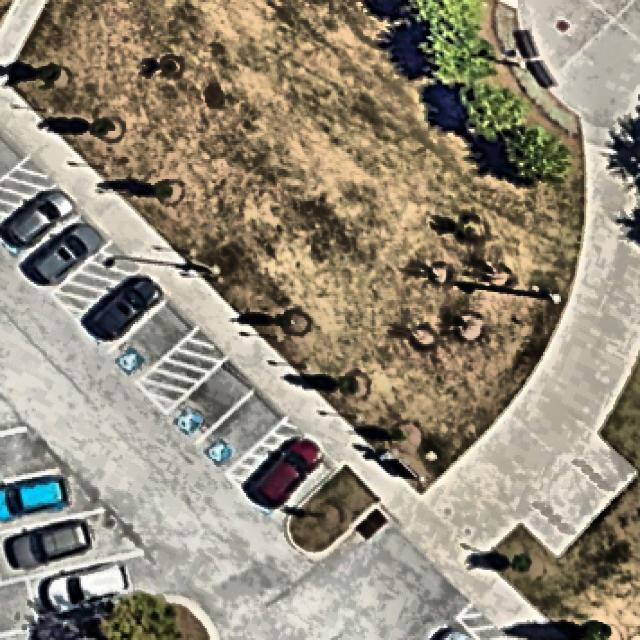Car: (240, 425, 331, 518), (78, 266, 171, 351), (20, 215, 111, 288), (34, 555, 139, 617), (0, 179, 80, 257), (0, 515, 97, 572), (0, 474, 73, 526), (429, 613, 480, 640), (0, 129, 3, 134)
Empty: (101, 296, 206, 386), (196, 385, 291, 480), (164, 355, 258, 445), (0, 426, 62, 485), (0, 580, 46, 630), (0, 132, 29, 184), (0, 623, 66, 640)
